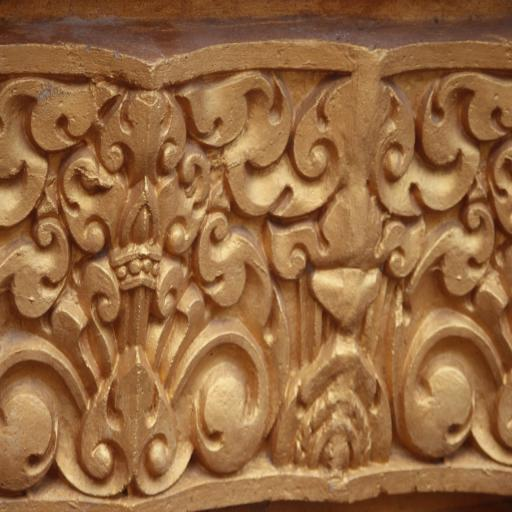la: (0, 109, 275, 490), (271, 92, 410, 481), (404, 90, 512, 473)
